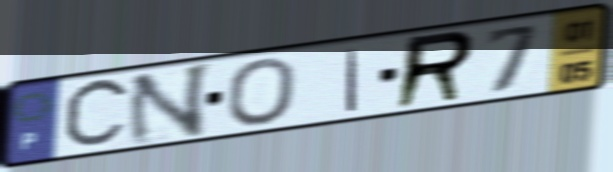7: (483, 21, 544, 95)
C: (59, 73, 135, 155)
I: (342, 47, 362, 114)
N: (124, 60, 215, 150)
O: (223, 55, 300, 129)
R: (391, 27, 480, 113)
